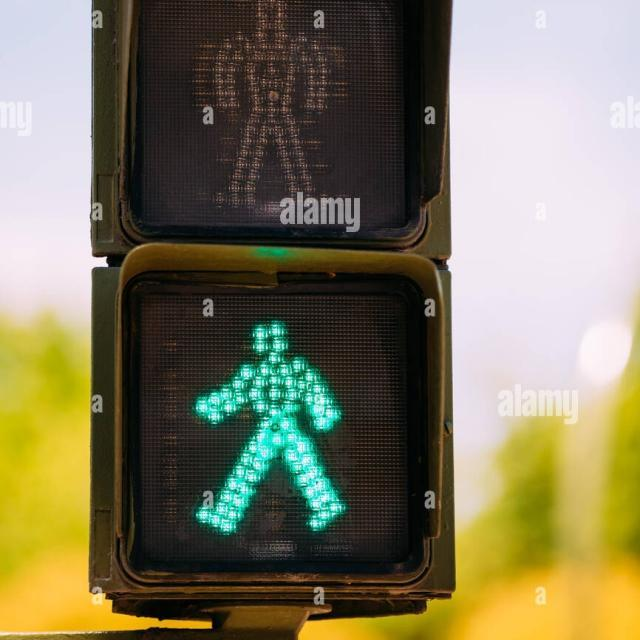green_light: (206, 318, 352, 534)
